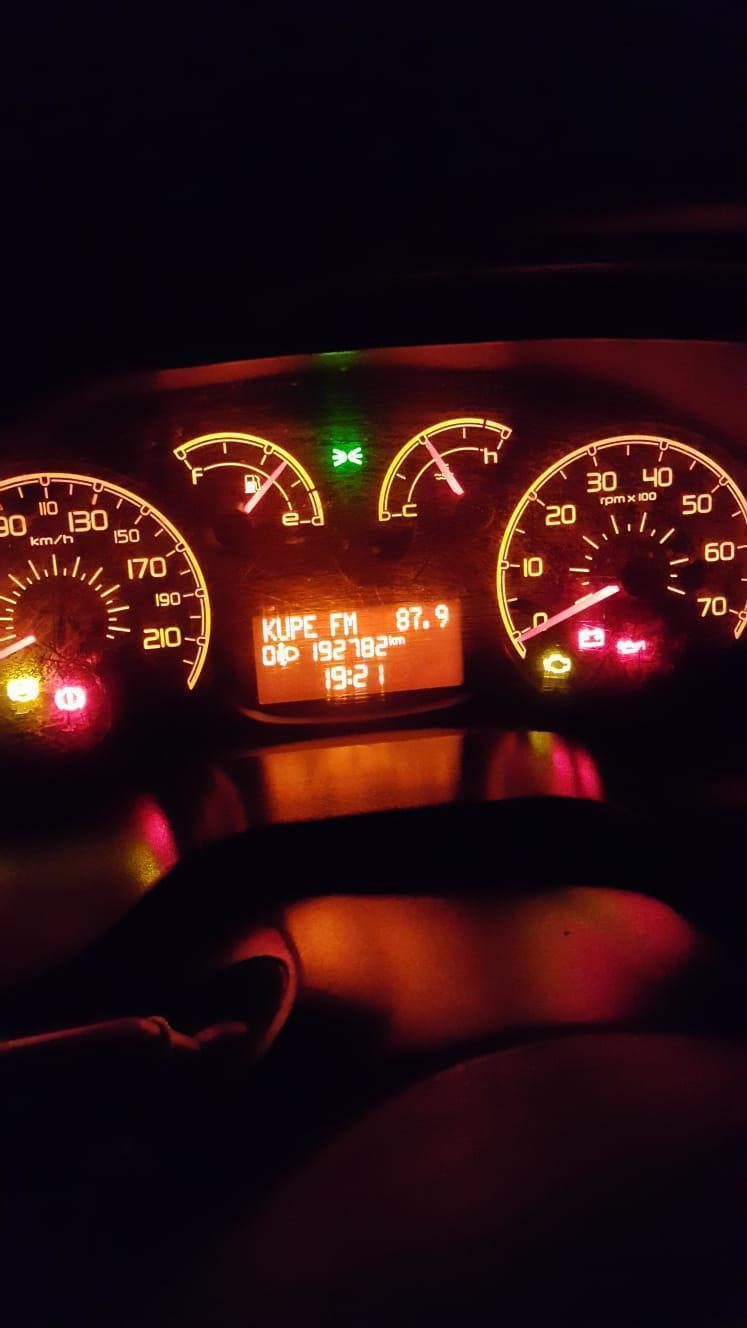,: (421, 618, 432, 630)
0: (261, 645, 277, 666)
1: (377, 662, 386, 686), (324, 667, 330, 690), (312, 641, 318, 663)
2: (354, 663, 369, 688), (333, 638, 347, 660), (375, 635, 388, 658)
7: (409, 605, 421, 630), (348, 638, 361, 658)
8: (394, 606, 410, 631), (361, 635, 374, 659)
9: (434, 602, 451, 628), (331, 665, 346, 690), (318, 640, 332, 662)
X: (302, 613, 319, 640), (343, 610, 360, 636), (262, 616, 277, 643), (276, 614, 290, 642), (290, 614, 302, 642), (329, 612, 342, 636), (346, 667, 353, 687), (395, 636, 406, 646), (388, 635, 395, 646)
odometer: (249, 597, 468, 705)
